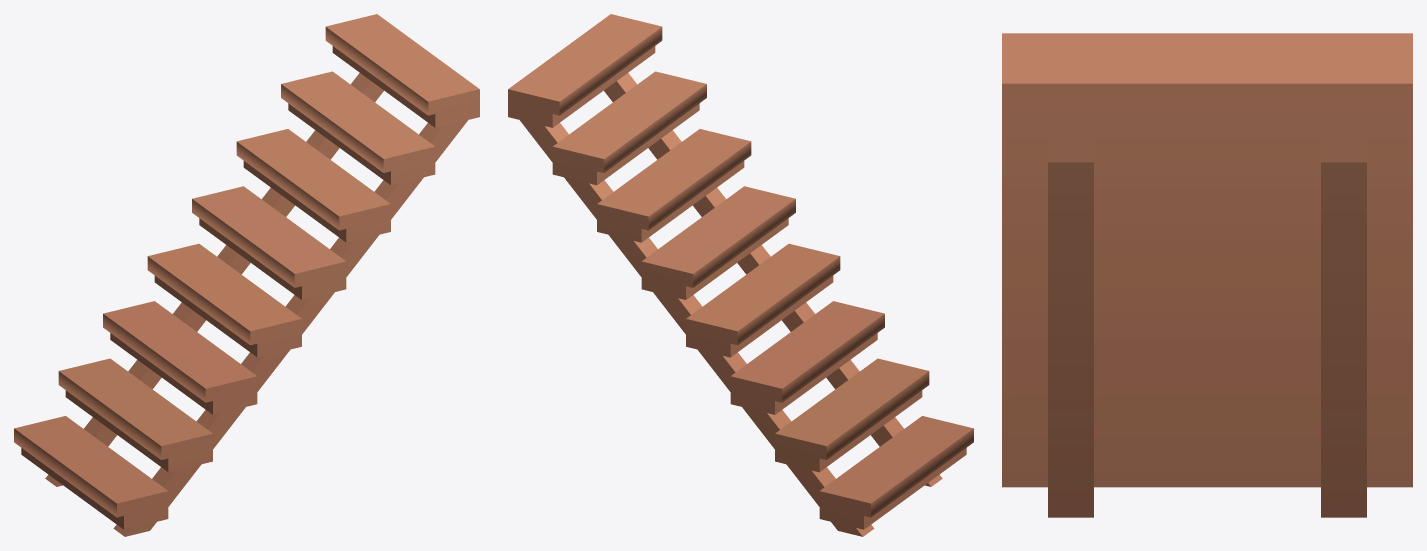
File: stairs-wood.glb
The picture shows the model from 3 angles, left to right: view 1: azimuth 30°, elevation 25°; view 2: azimuth 150°, elevation 25°; view 3: azimuth 270°, elevation 25°; orthographic projection. The views are drawn at different scales.
Parts seen in each view (by area): view 1: stairs-wood; view 2: stairs-wood; view 3: stairs-wood.
Boxes of the visible parts, x1=… form: stairs-wood: x1=14, y1=14, x2=479, y2=536; stairs-wood: x1=508, y1=14, x2=973, y2=536; stairs-wood: x1=1002, y1=33, x2=1412, y2=517.
Size of the model in its own units: 1.02 by 1 by 0.5.
Materials: 1 (1 with a texture image).
